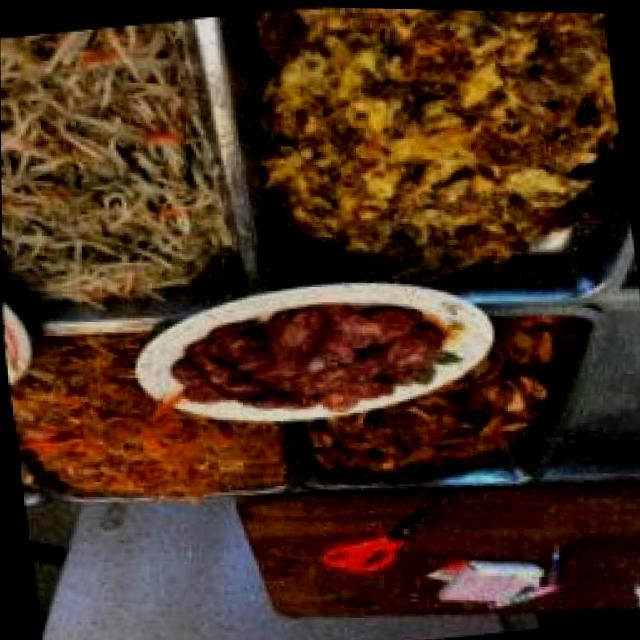chinese_sausage: (187, 293, 437, 418)
mung_bean_sprouts: (0, 13, 230, 317)
